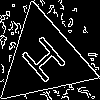H: (19, 34, 75, 92)
